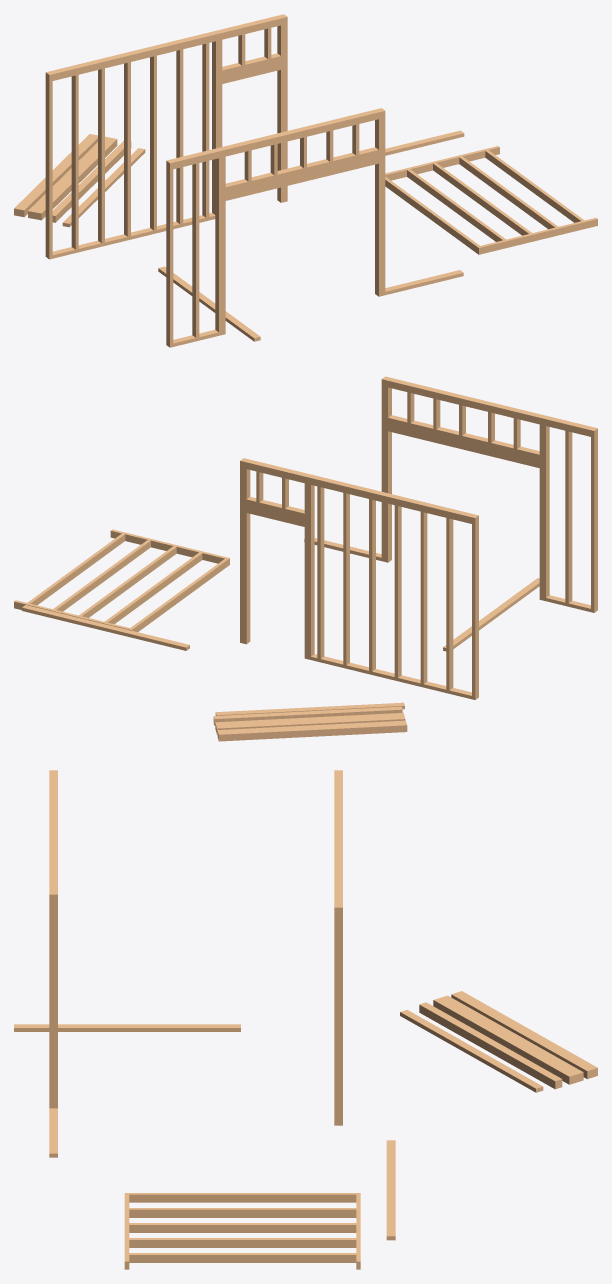
Rendered from Non-Structural Wood Walls.dae.
3 views of the same model, one above another, from view 1: azimuth 30°, elevation 25°; view 2: azimuth 150°, elevation 25°; view 3: azimuth 270°, elevation 25° (orthographic). The views are drawn at different scales.
Visible parts, largest first — view 1: group_1 (×9), group_10 (×4), group_32 (×5), group_4, group_13, group_14, group_33, group_17, group_2, group_3, group_12, group_34 (+8 smaller); view 2: group_1 (×9), group_10 (×4), group_32 (×5), group_4, group_26, group_13, group_19, group_2, group_16, group_17, group_24, group_3 (+6 smaller); view 3: group_32 (×5), group_1, group_10, group_31, group_27, group_30, group_25, group_4, group_13, group_19, group_29.
Boxes of the visible parts, box(x1,y1,x2,y2) form: group_1 (×9): box(45, 24, 287, 255); group_10 (×4): box(166, 118, 385, 344); group_32 (×5): box(385, 150, 584, 253); group_4: box(45, 14, 287, 78); group_13: box(166, 108, 385, 166); group_14: box(225, 153, 378, 197); group_33: box(477, 217, 597, 254); group_17: box(225, 147, 378, 190); group_2: box(45, 213, 215, 259); group_3: box(45, 20, 287, 81); group_12: box(166, 114, 385, 169); group_34: box(385, 146, 499, 180); group_1 (×9): box(240, 467, 478, 696); group_10 (×4): box(381, 386, 597, 609); group_32 (×5): box(27, 533, 228, 631); group_4: box(240, 458, 478, 521); group_26: box(218, 723, 407, 741); group_13: box(381, 376, 597, 434); group_19: box(22, 605, 189, 650); group_2: box(304, 654, 478, 699); group_16: box(388, 421, 539, 464); group_17: box(388, 415, 539, 457); group_24: box(214, 708, 402, 725); group_3: box(240, 464, 478, 524); group_32 (×5): box(129, 1193, 356, 1262); group_1: box(334, 915, 342, 1121); group_10: box(49, 902, 57, 1108); group_31: box(14, 1024, 240, 1031); group_27: box(419, 1003, 558, 1089); group_30: box(400, 1010, 543, 1092); group_25: box(433, 999, 572, 1084); group_4: box(334, 770, 342, 911); group_13: box(49, 770, 57, 898); group_19: box(386, 1140, 395, 1240); group_29: box(451, 993, 590, 1079).
Bounding box in the file's own units: 277 × 258 × 114.
